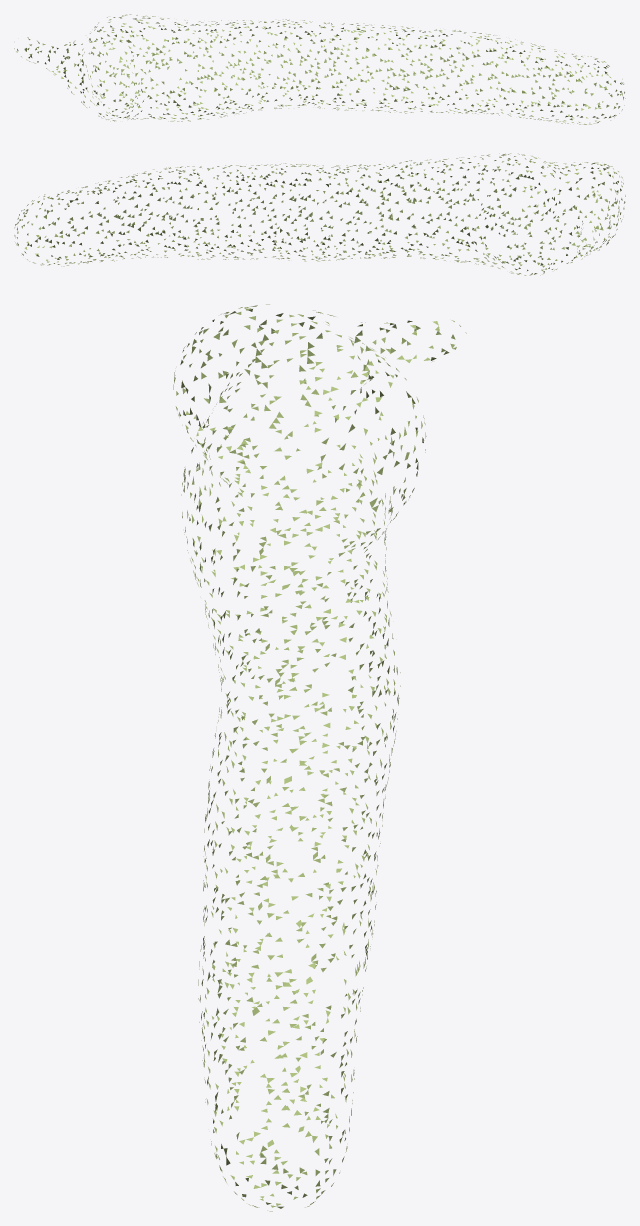
Rendered from morph_011.glb.
The picture shows the model from 3 angles, top to bottom: view 1: azimuth 30°, elevation 25°; view 2: azimuth 150°, elevation 25°; view 3: azimuth 270°, elevation 25°; orthographic projection. The views are drawn at different scales.
Bounding box in the file's own units: 124 × 43.28 × 27.9.
